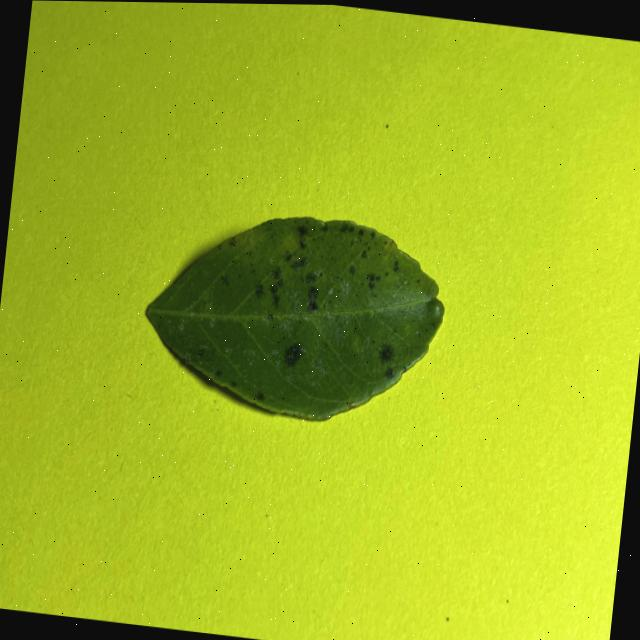sooty_mold: (147, 218, 444, 420)
